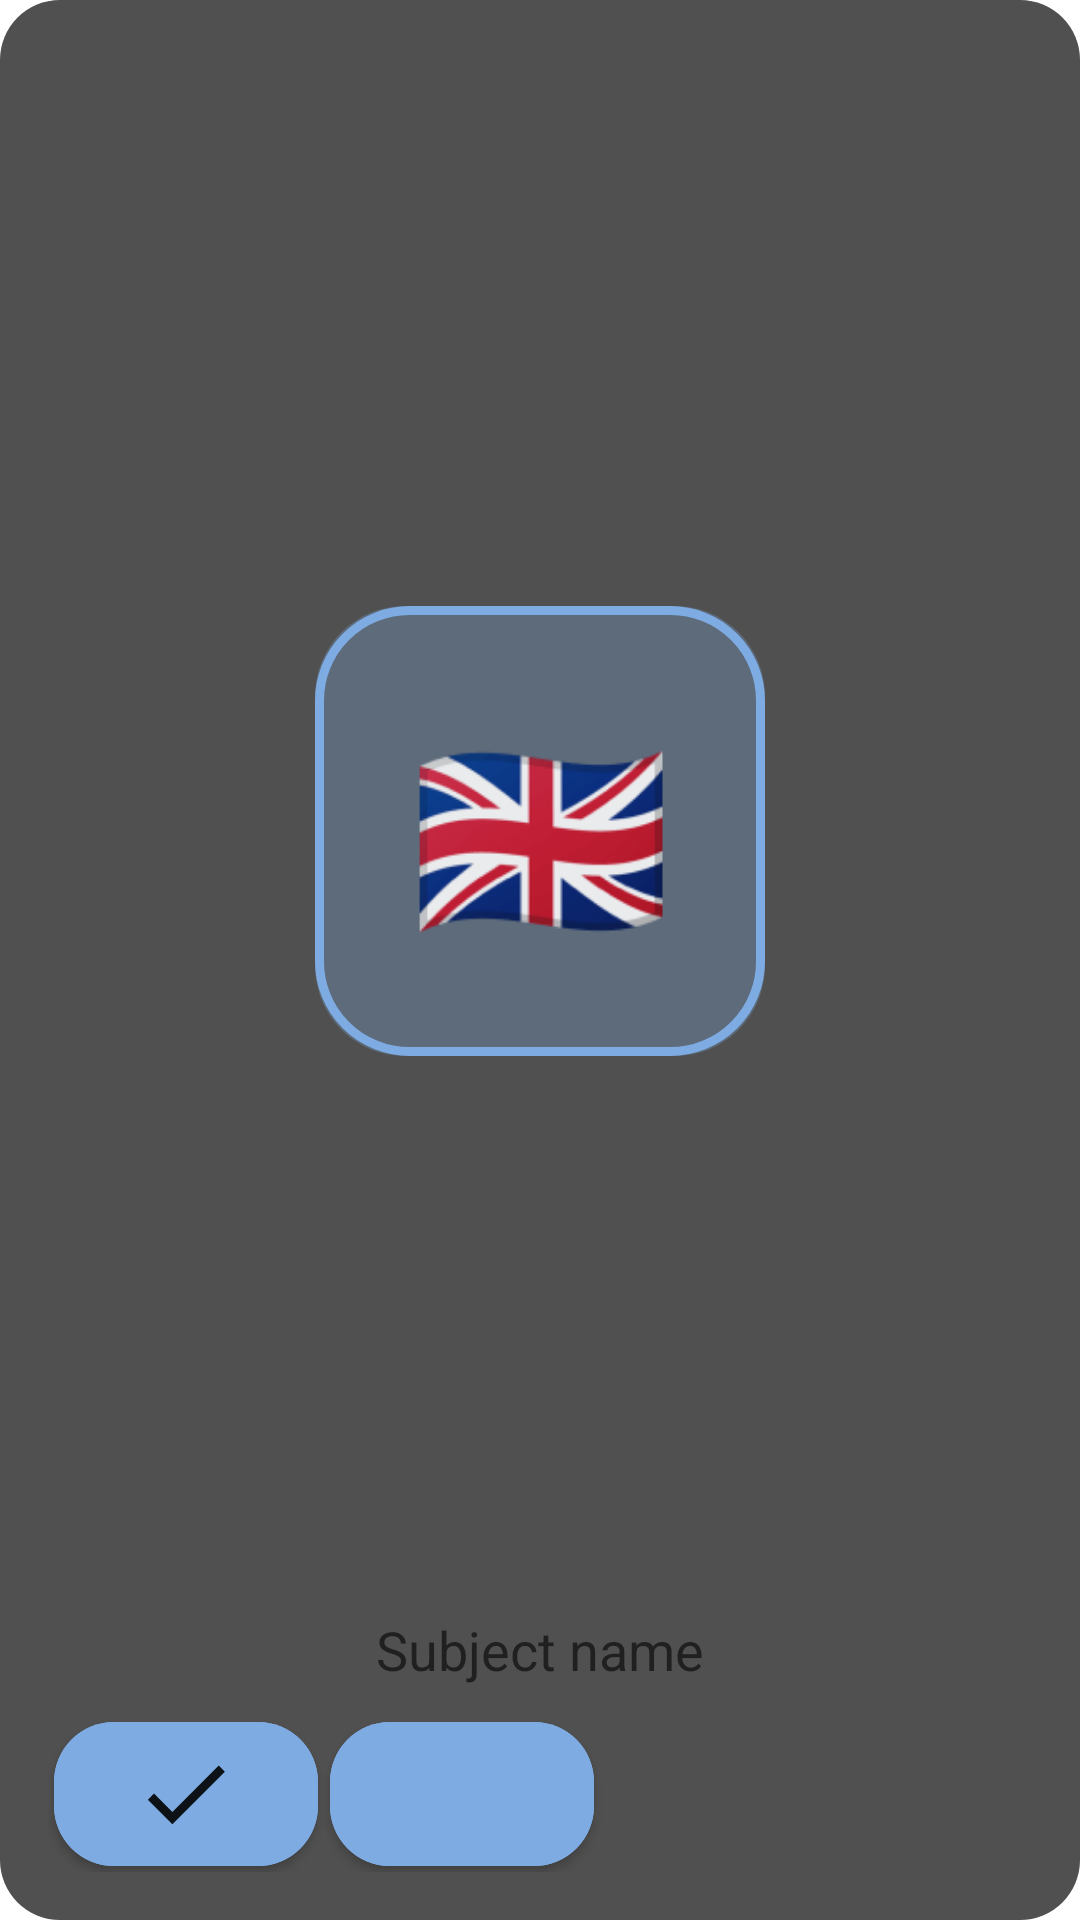

Icons on this 1080*1920 Android screen, each with the point to tap as (x=x, y=y):
done: (x=186, y=1794)
